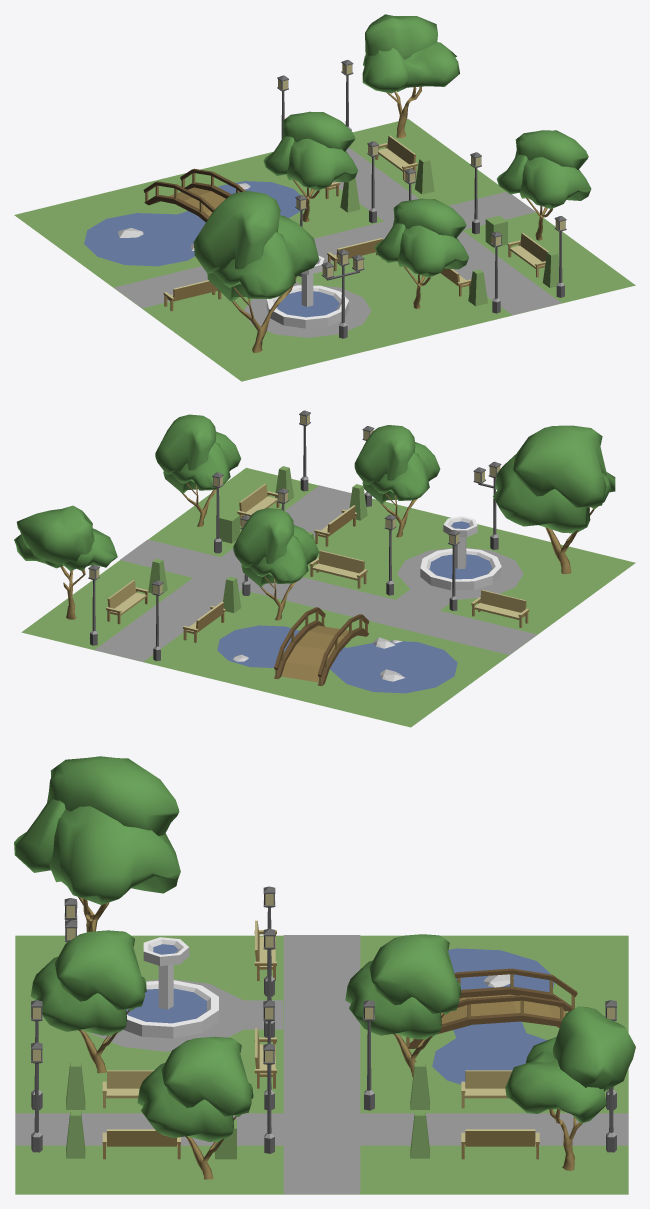
File: park4.glb
3 views of the same model, one above another, from view 1: azimuth 30°, elevation 25°; view 2: azimuth 150°, elevation 25°; view 3: azimuth 270°, elevation 25° (orthographic). The views are drawn at different scales.
Visible parts, largest first — view 1: park.021; view 2: park.021; view 3: park.021.
Part boxes in pixels (x1=…): park.021: x1=14, y1=14, x2=635, y2=381; park.021: x1=14, y1=410, x2=635, y2=727; park.021: x1=14, y1=756, x2=635, y2=1194.
Bounding box in the file's own units: 17.32 × 6.33 × 16.23.
Materials: 1 (1 with a texture image).
